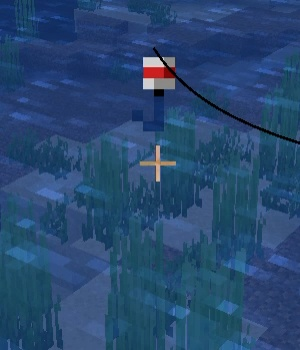up: (130, 50, 180, 132)
